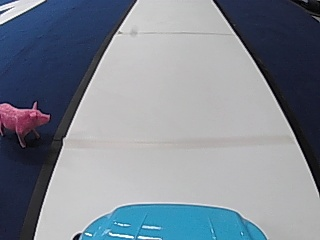pig: (0, 97, 51, 147)
